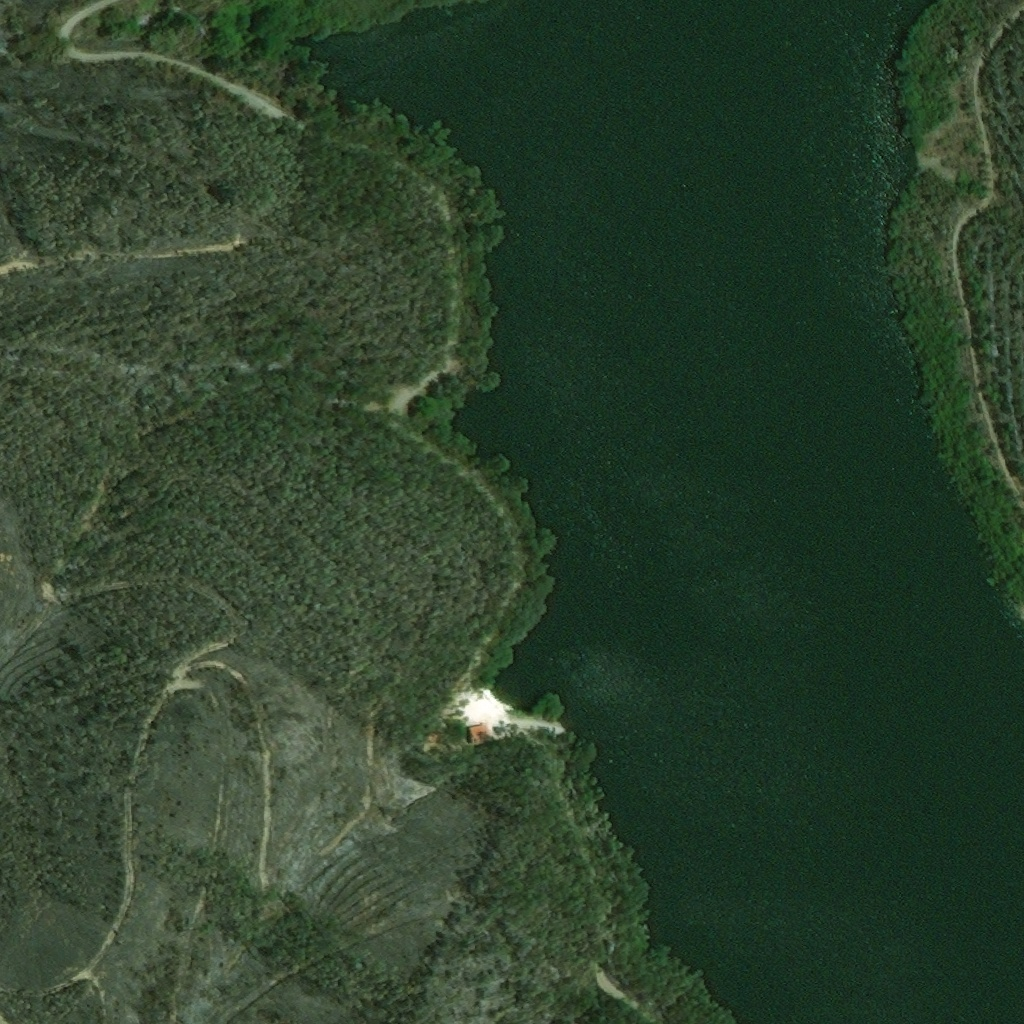0 no-damage: (460, 725, 487, 747)
